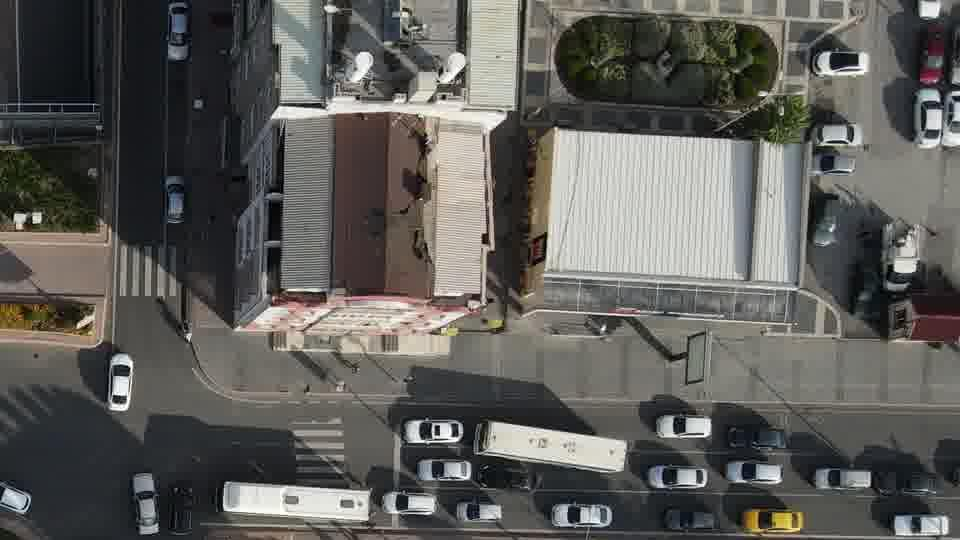bus: (473, 418, 628, 474), (213, 478, 371, 522)
cars: (476, 462, 543, 493), (872, 468, 940, 497), (917, 21, 948, 84), (911, 86, 941, 149), (105, 352, 135, 412), (741, 506, 805, 534), (166, 477, 196, 536), (810, 192, 842, 247), (132, 471, 159, 536), (811, 49, 871, 78), (551, 500, 613, 528), (402, 417, 464, 444), (724, 459, 784, 486), (648, 464, 709, 490), (889, 512, 951, 537), (381, 490, 440, 516), (809, 122, 865, 149), (655, 413, 712, 439), (811, 467, 872, 491), (167, 2, 191, 61), (455, 499, 507, 526), (416, 457, 472, 482), (663, 507, 721, 531), (728, 425, 787, 448), (810, 151, 858, 176), (165, 173, 188, 224), (0, 478, 31, 514), (942, 90, 960, 148), (949, 23, 960, 87), (916, 0, 943, 19)
truck: (881, 222, 921, 292)
